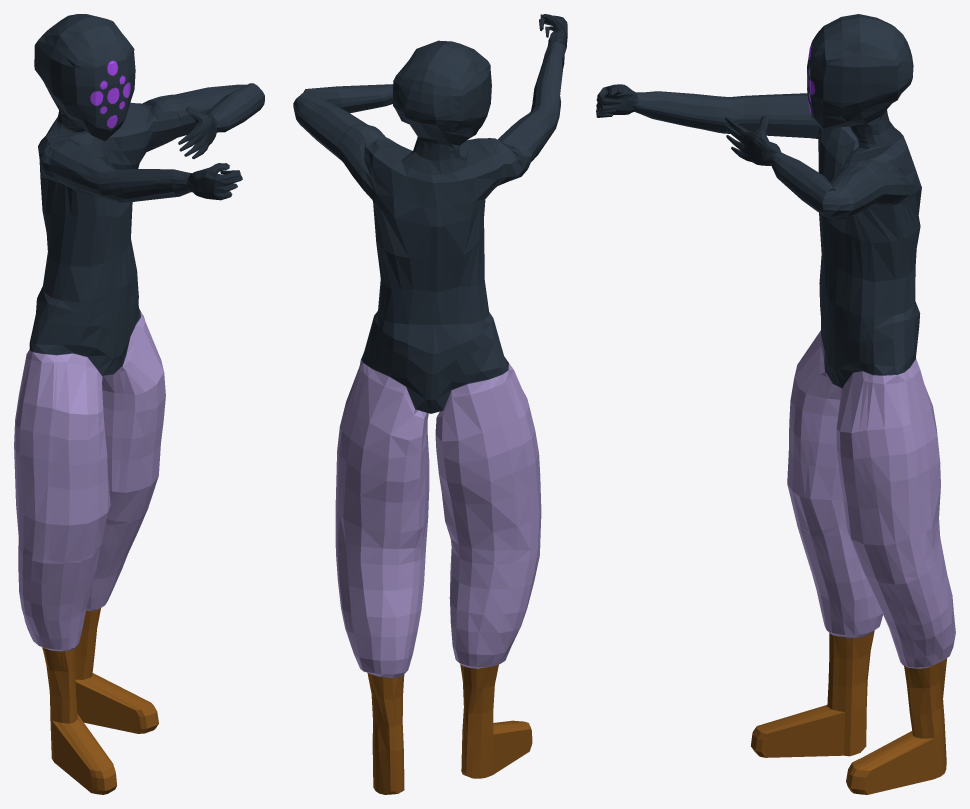
File: Oracle_Attack_000030.obj
The picture shows the model from 3 angles, left to right: view 1: azimuth 30°, elevation 25°; view 2: azimuth 150°, elevation 25°; view 3: azimuth 270°, elevation 25°; orthographic projection. The views are drawn at different scales.
Visible parts, largest first — view 1: Cube; view 2: Cube; view 3: Cube.
Boxes of the visible parts, <box> form: Cube: <box>14,14,264,794</box>; Cube: <box>293,14,567,794</box>; Cube: <box>596,14,955,794</box>.
Bounding box in the file's own units: 1.36 × 3.94 × 1.71.
